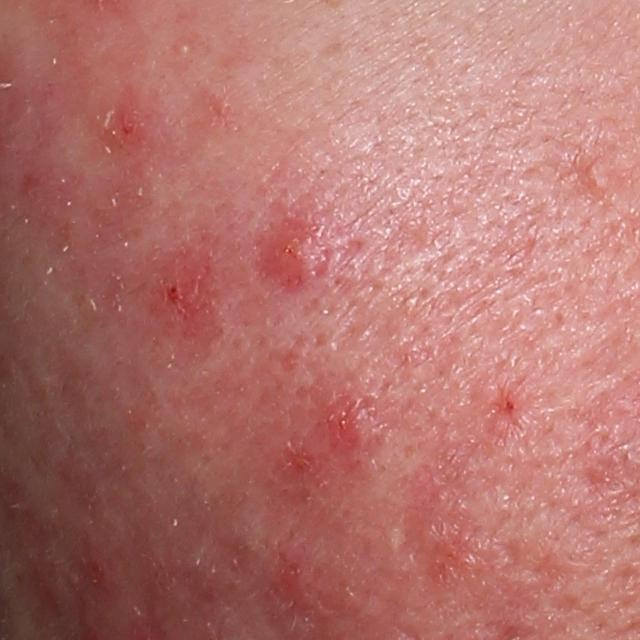comedo: (582, 157, 613, 193)
papule: (257, 224, 329, 291), (323, 393, 369, 451), (271, 434, 323, 484), (272, 550, 313, 608), (413, 515, 464, 557)
